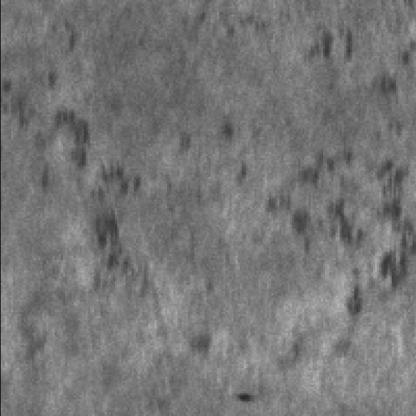rolled-in_scale: (0, 83, 154, 316), (256, 154, 412, 358), (287, 22, 410, 148)
